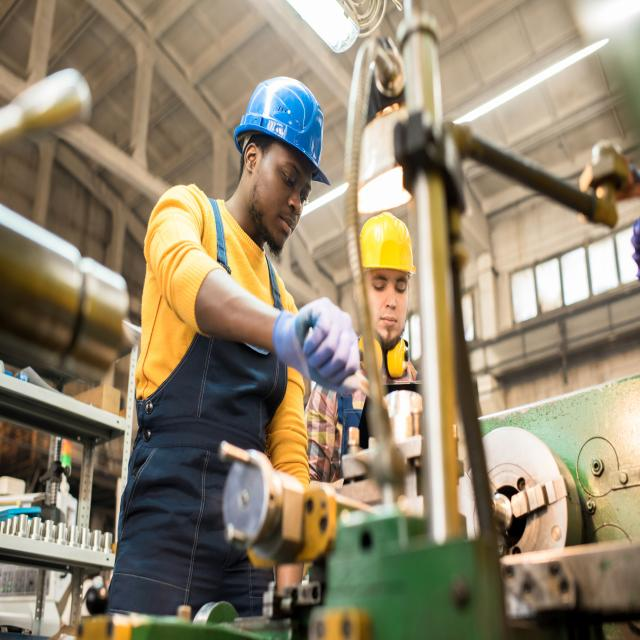Reflective-Jacket: (136, 184, 304, 406)
Safety-Helmet: (232, 70, 333, 183), (357, 212, 416, 275)
